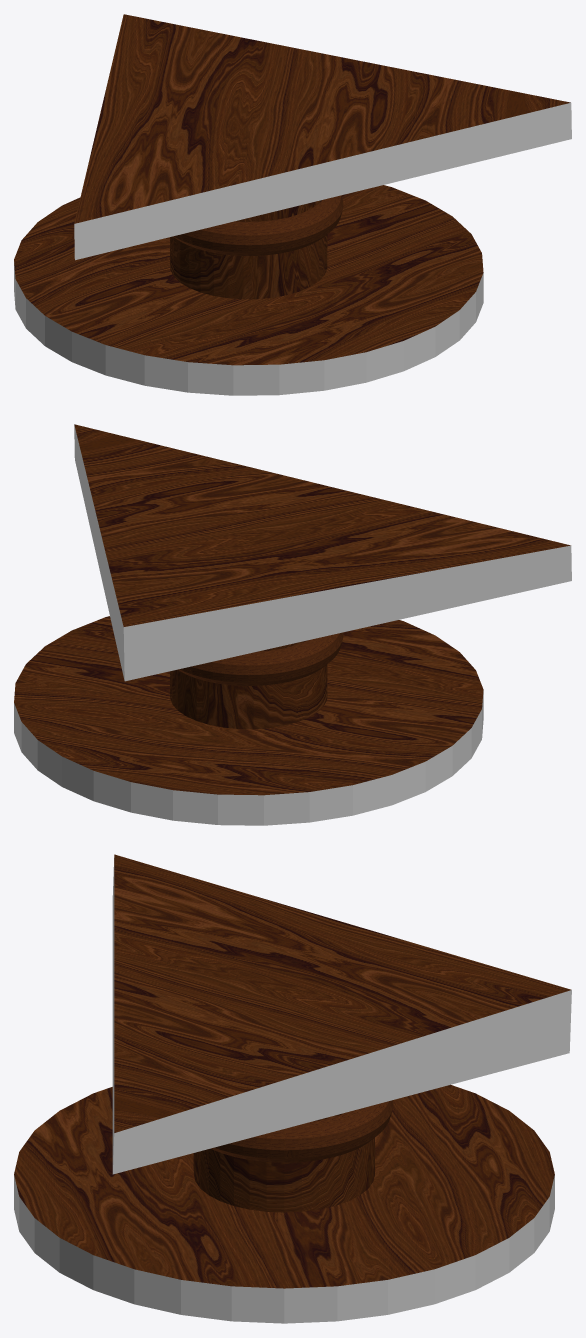
The model's file is triangle.fbx.
3 views of the same model, one above another, from view 1: azimuth 30°, elevation 25°; view 2: azimuth 150°, elevation 25°; view 3: azimuth 270°, elevation 25° (orthographic). The views are drawn at different scales.
Parts seen in each view (by area): view 1: Triangle; view 2: Triangle; view 3: Triangle.
Boxes of the visible parts, x1=… form: Triangle: x1=14, y1=14, x2=571, y2=395; Triangle: x1=14, y1=424, x2=571, y2=825; Triangle: x1=14, y1=854, x2=571, y2=1323.
Bounding box in the file's own units: 156 × 57.09 × 132.
